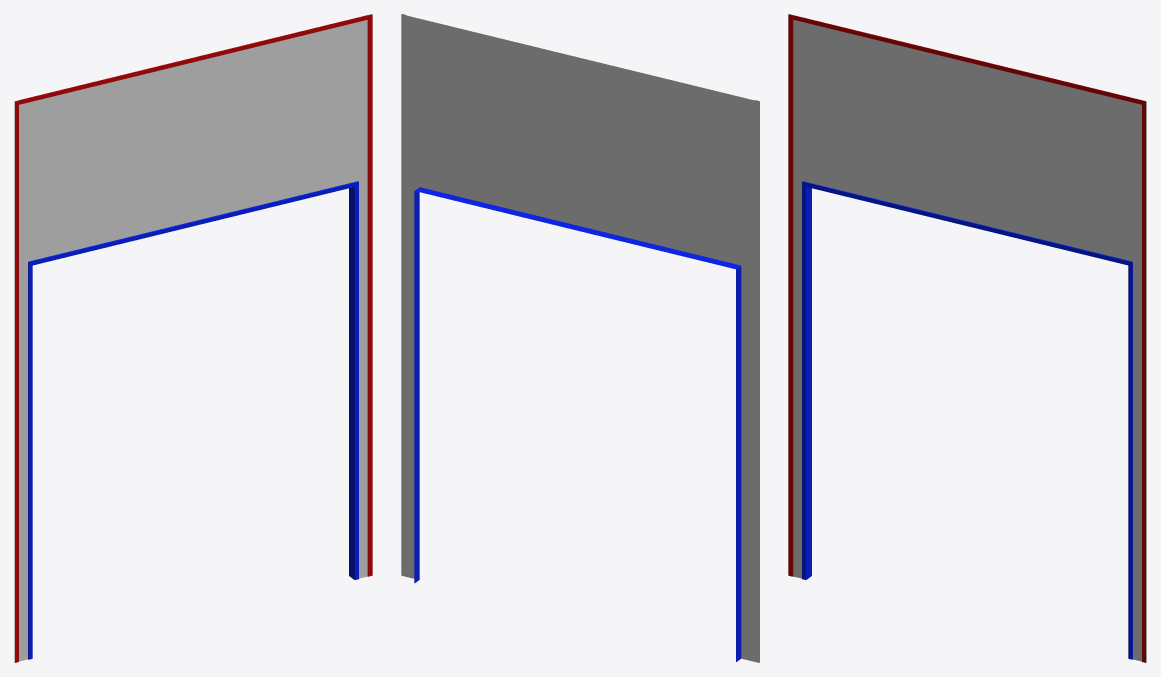
File: Wall02bDoor.fbx
3 views of the same model, side by side, from view 1: azimuth 30°, elevation 25°; view 2: azimuth 150°, elevation 25°; view 3: azimuth 330°, elevation 25° (orthographic).
Parts seen in each view (by area): view 1: Wall02bDoor; view 2: Wall02bDoor; view 3: Wall02bDoor.
Boxes of the visible parts, <box> form: Wall02bDoor: <box>14,14,372,662</box>; Wall02bDoor: <box>401,14,759,662</box>; Wall02bDoor: <box>788,14,1146,662</box>.
Bounding box in the file's own units: 200 × 300 × 5.5.
